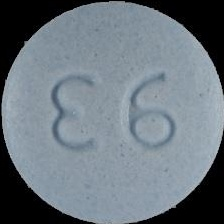0093-5275: (0, 0, 224, 224)
